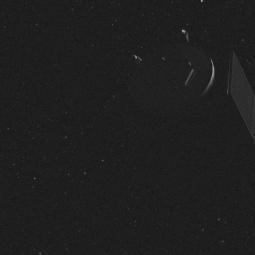cheops: (106, 1, 255, 158)
